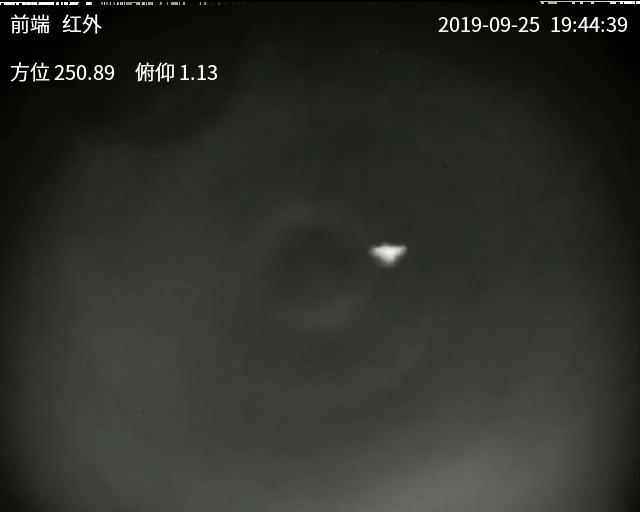uav: (364, 242, 403, 267)
